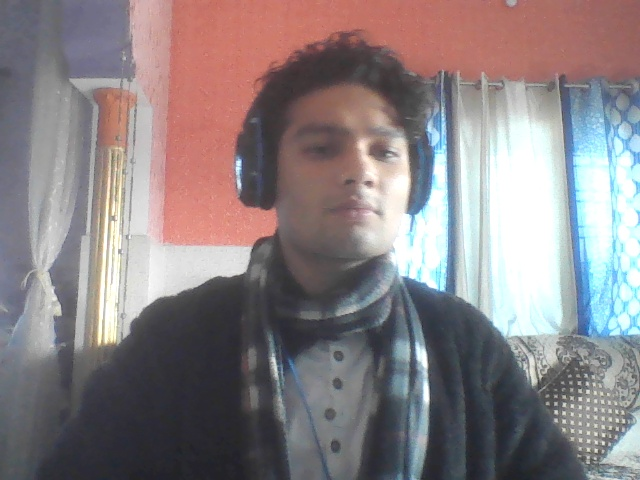real: (255, 37, 424, 276)
